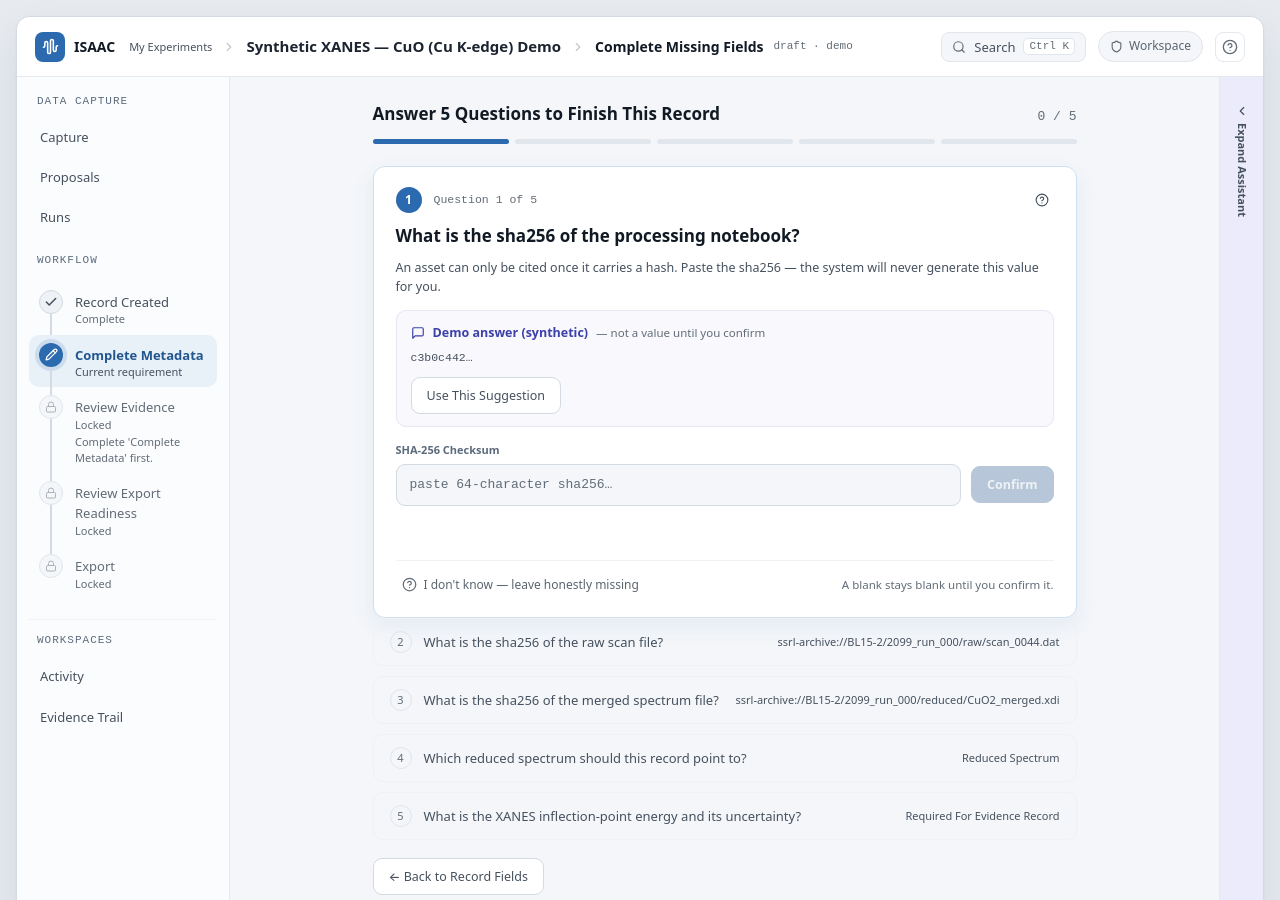
Test case: R1b · a session-only decision is not presented as a durable review › the all-reviewed summary does not claim a completed review outcome
expect the heading "What is the sha256 of the processing notebook?" is shown: met, box [396,224,800,247]
Click the button "I don't know — leave honestly missing" at x=520, y=585, box [396,573,645,597]
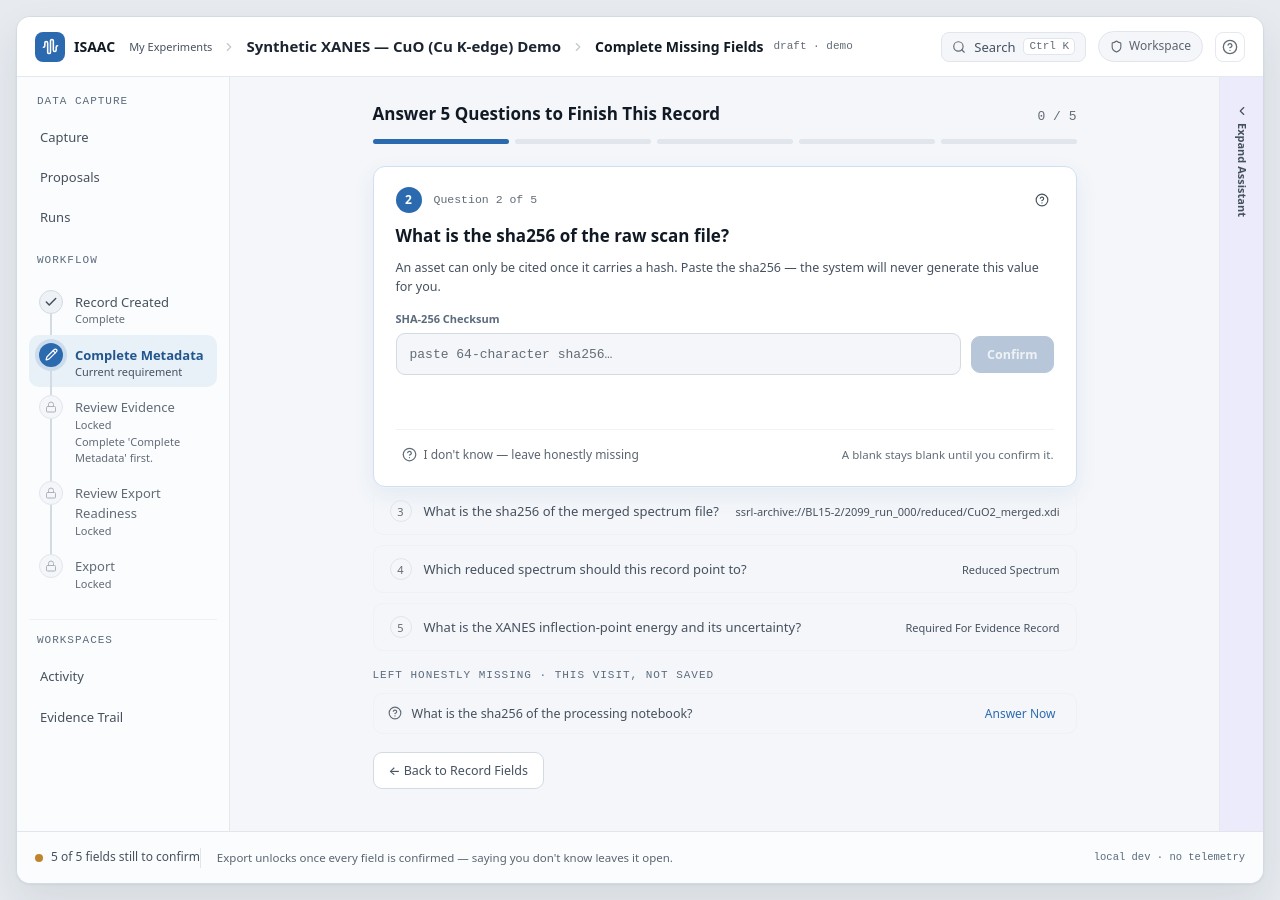
Click the button "I don't know — leave honestly missing" at x=520, y=454, box [396,442,645,466]
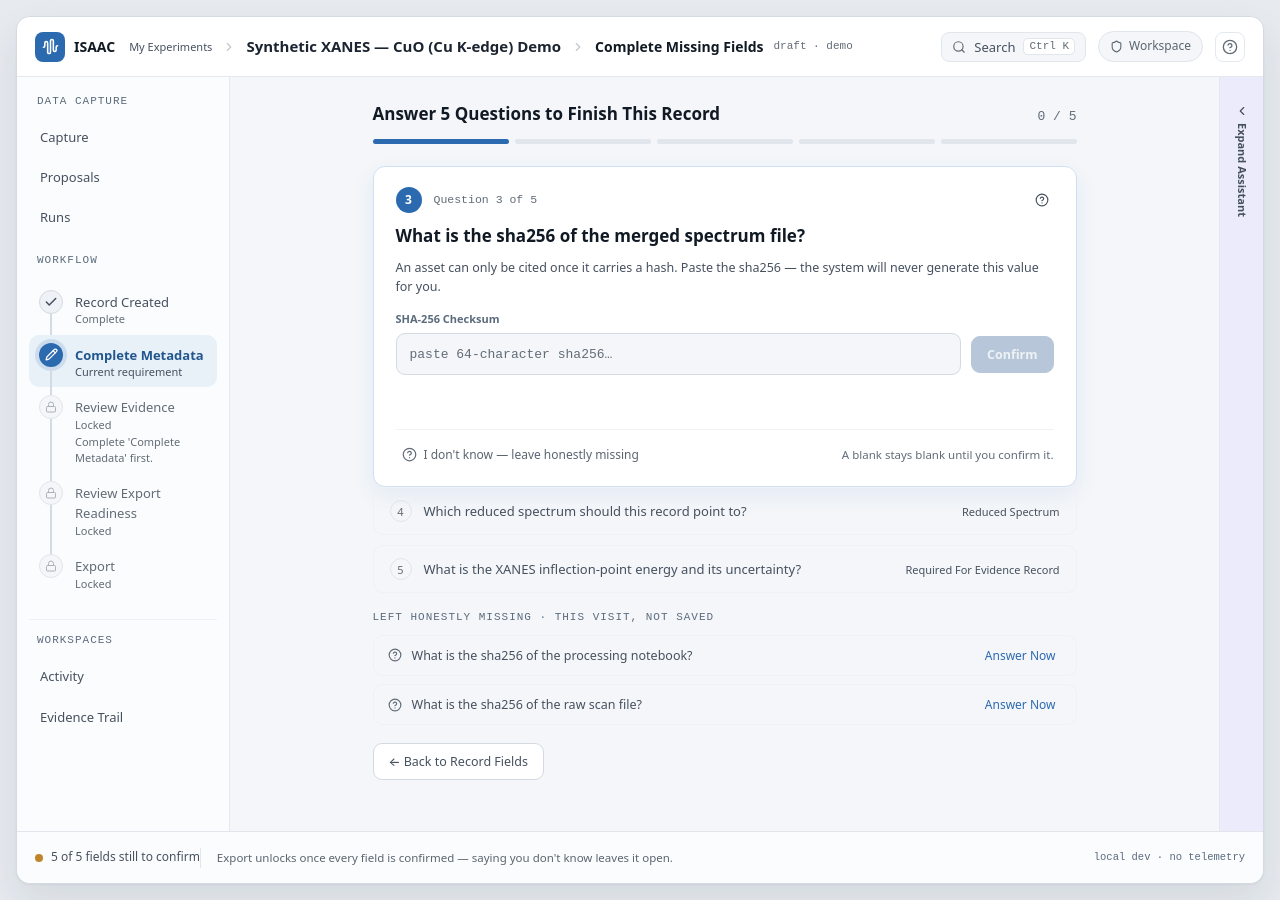
Click the button "I don't know — leave honestly missing" at x=520, y=454, box [396,442,645,466]
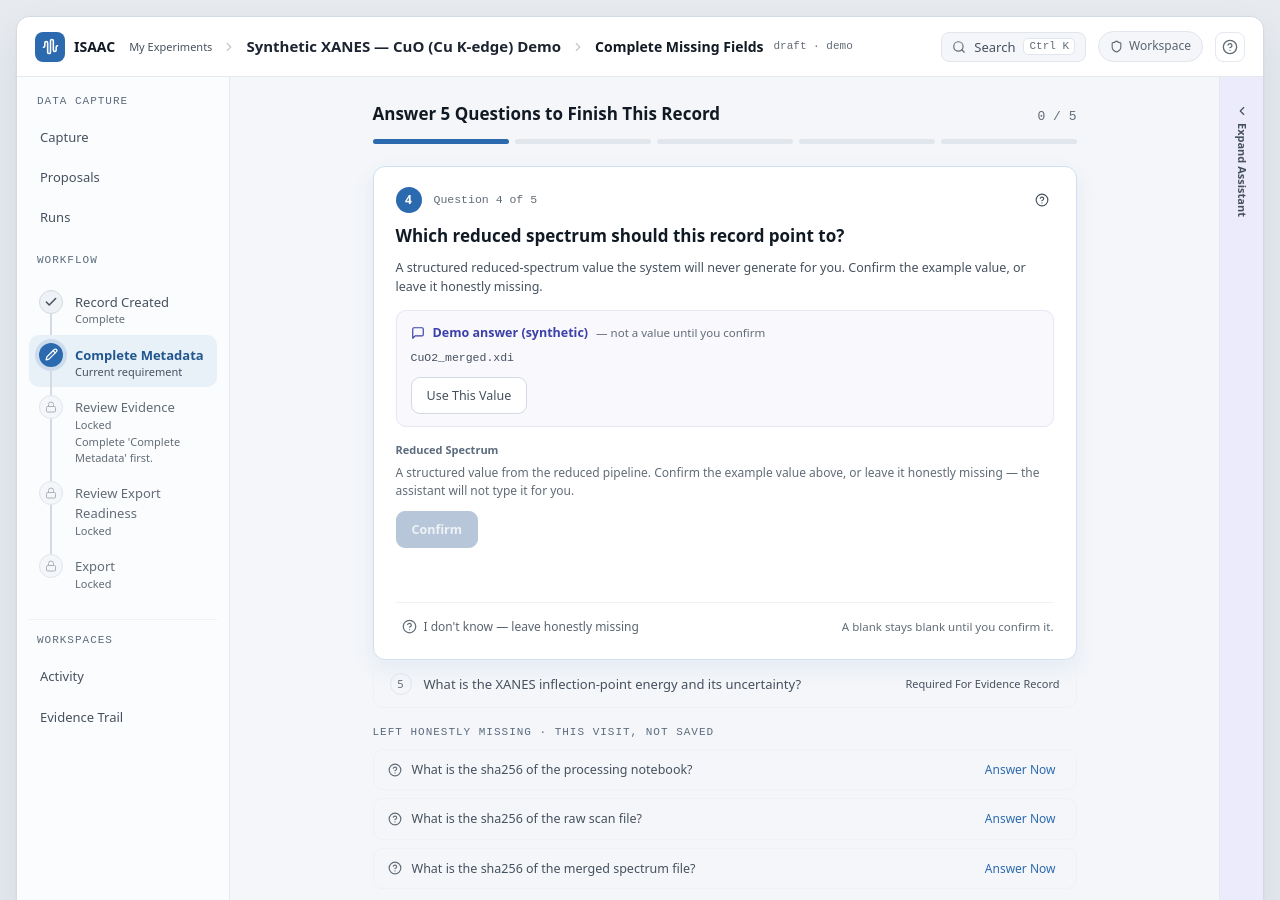
Click the button "I don't know — leave honestly missing" at x=520, y=627, box [396,615,645,639]
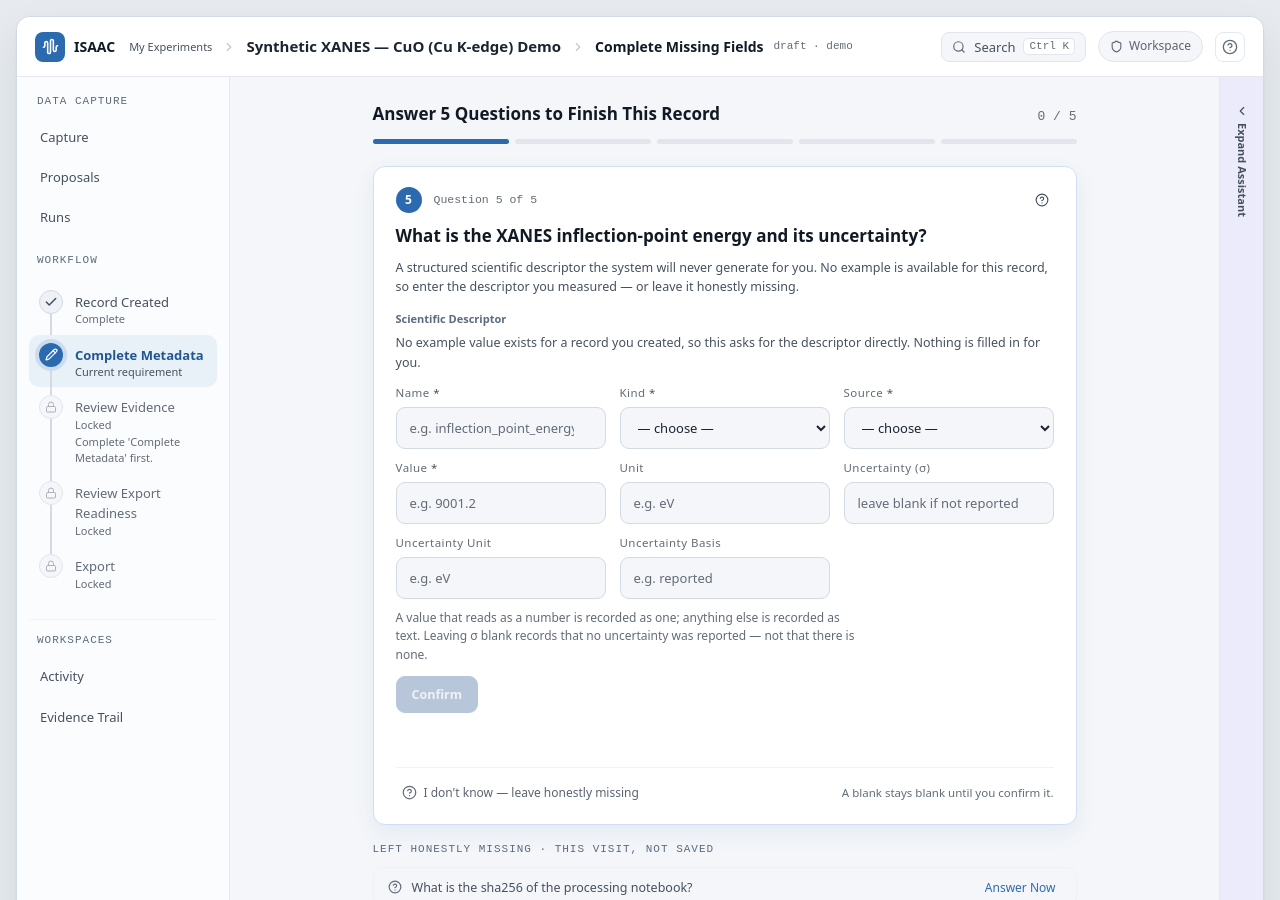
Click the button "I don't know — leave honestly missing" at x=520, y=792, box [396,780,645,804]
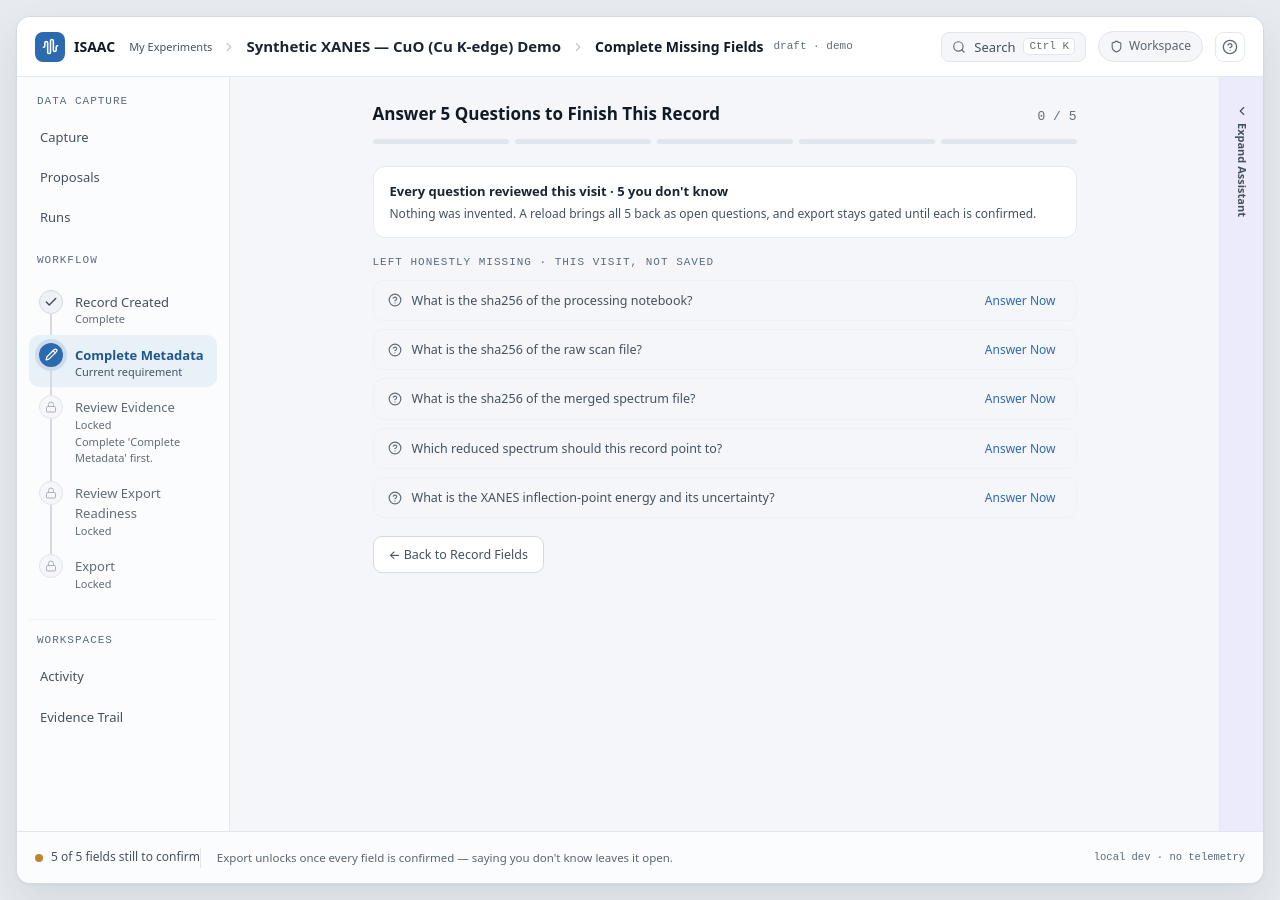
expect the element with class "completion-allskipped" is shown: met, box [372,166,1076,238]
expect the element with class "completion-allskipped" shows "Nothing was invented": met, box [390,206,624,222]
expect the element with class "completion-allskipped" shows "export": met, box [631,206,1036,222]
